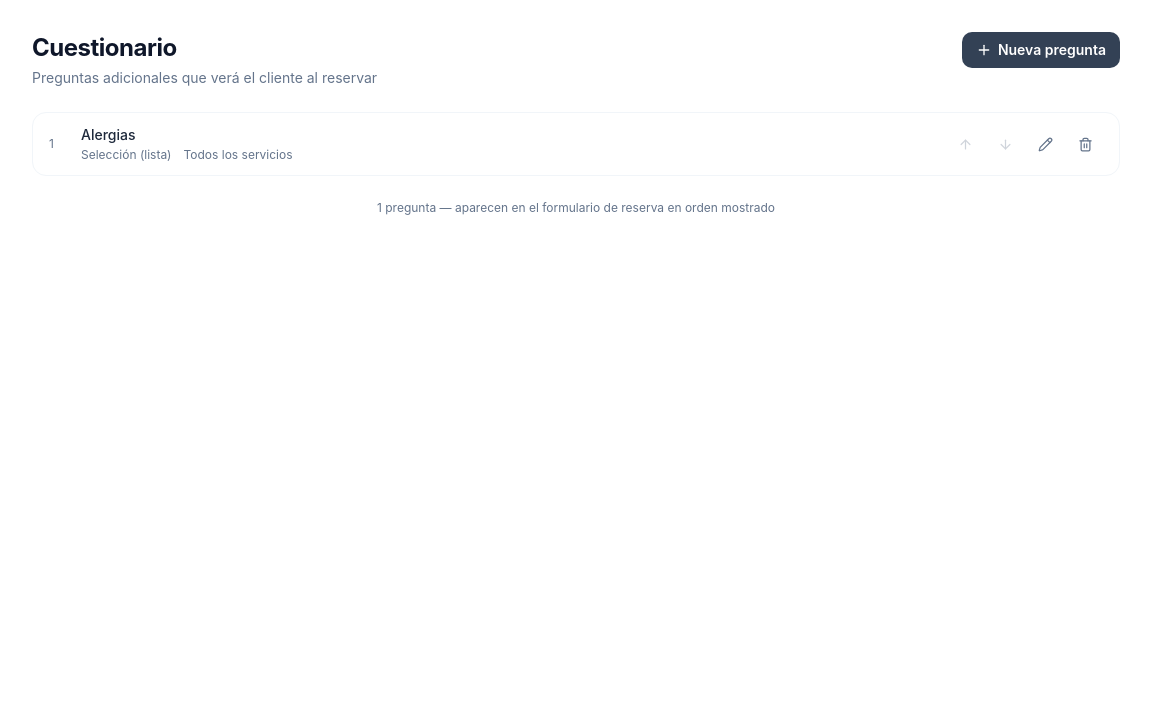
Test: IntakePage — editor de opciones y acciones (OM-25) › al editar una pregunta antigua separa sus opciones por coma
What coordinates should you click on to do the following:
click the button named "Editar pregunta \"Alergias\""
I would click on:
 (1045, 144)
Its box is [1027, 126, 1063, 162].
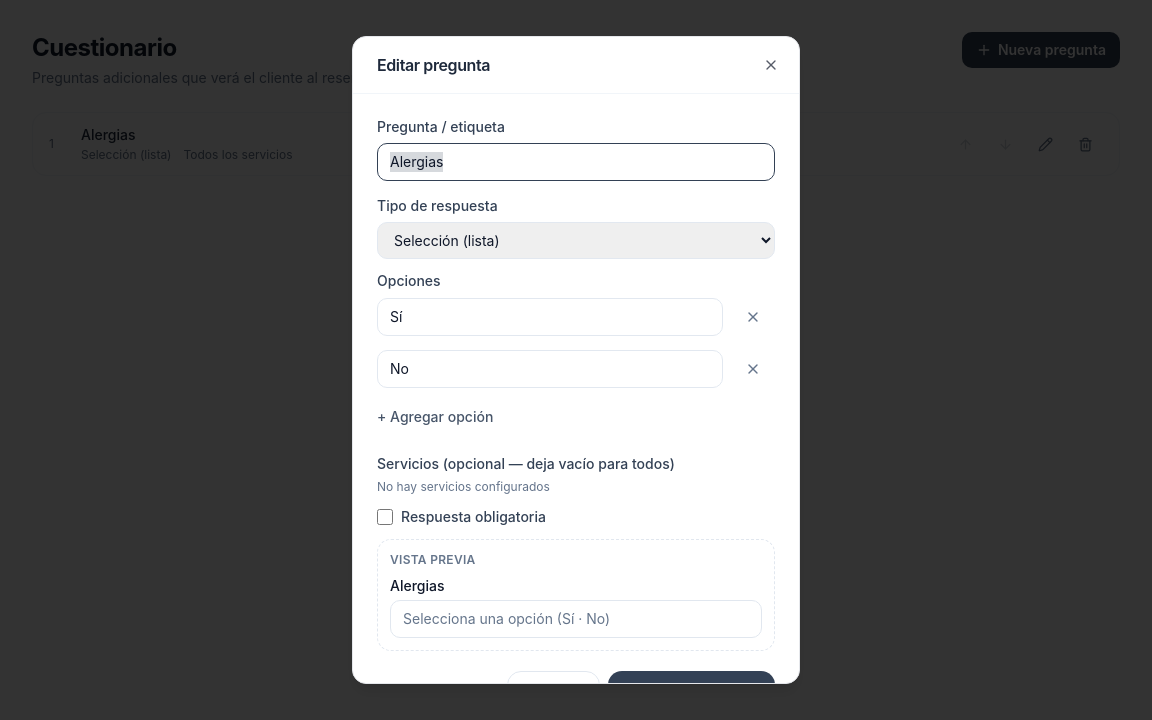
Now the field named "Opción 1" holds "Sí", box [377, 298, 723, 336]
Now the field named "Opción 2" holds "No", box [377, 350, 723, 388]
